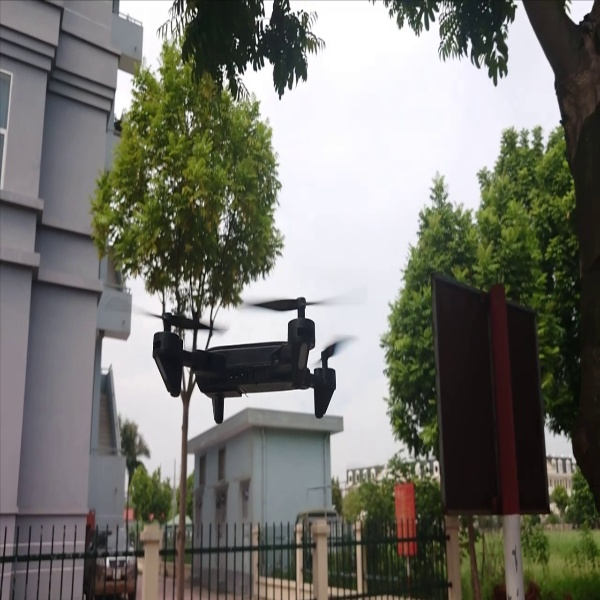drone: (131, 277, 367, 429)
